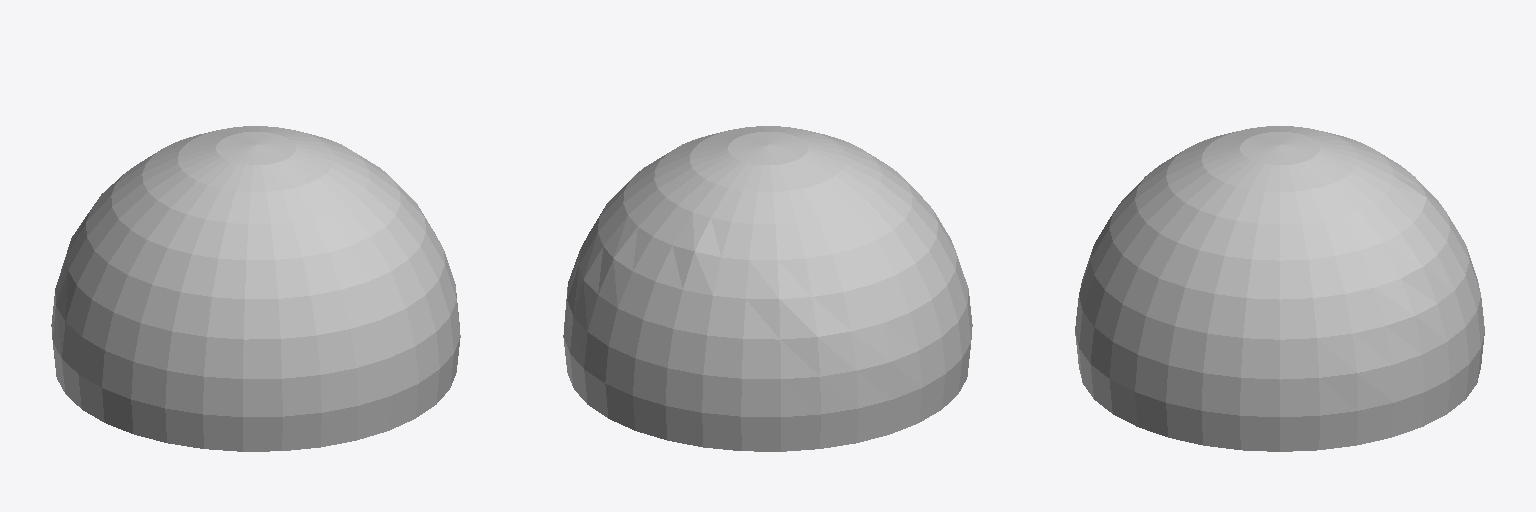
Rendered from skydome.obj.
3 views of the same model, side by side, from view 1: azimuth 30°, elevation 25°; view 2: azimuth 150°, elevation 25°; view 3: azimuth 270°, elevation 25° (orthographic).
Visible parts, largest first — view 1: Sphere; view 2: Sphere; view 3: Sphere.
Part boxes in pixels (bbox=[...]): Sphere: bbox=[51, 126, 460, 451]; Sphere: bbox=[563, 126, 972, 451]; Sphere: bbox=[1075, 126, 1484, 451].
Bounding box in the file's own units: 2 × 1.2 × 2.